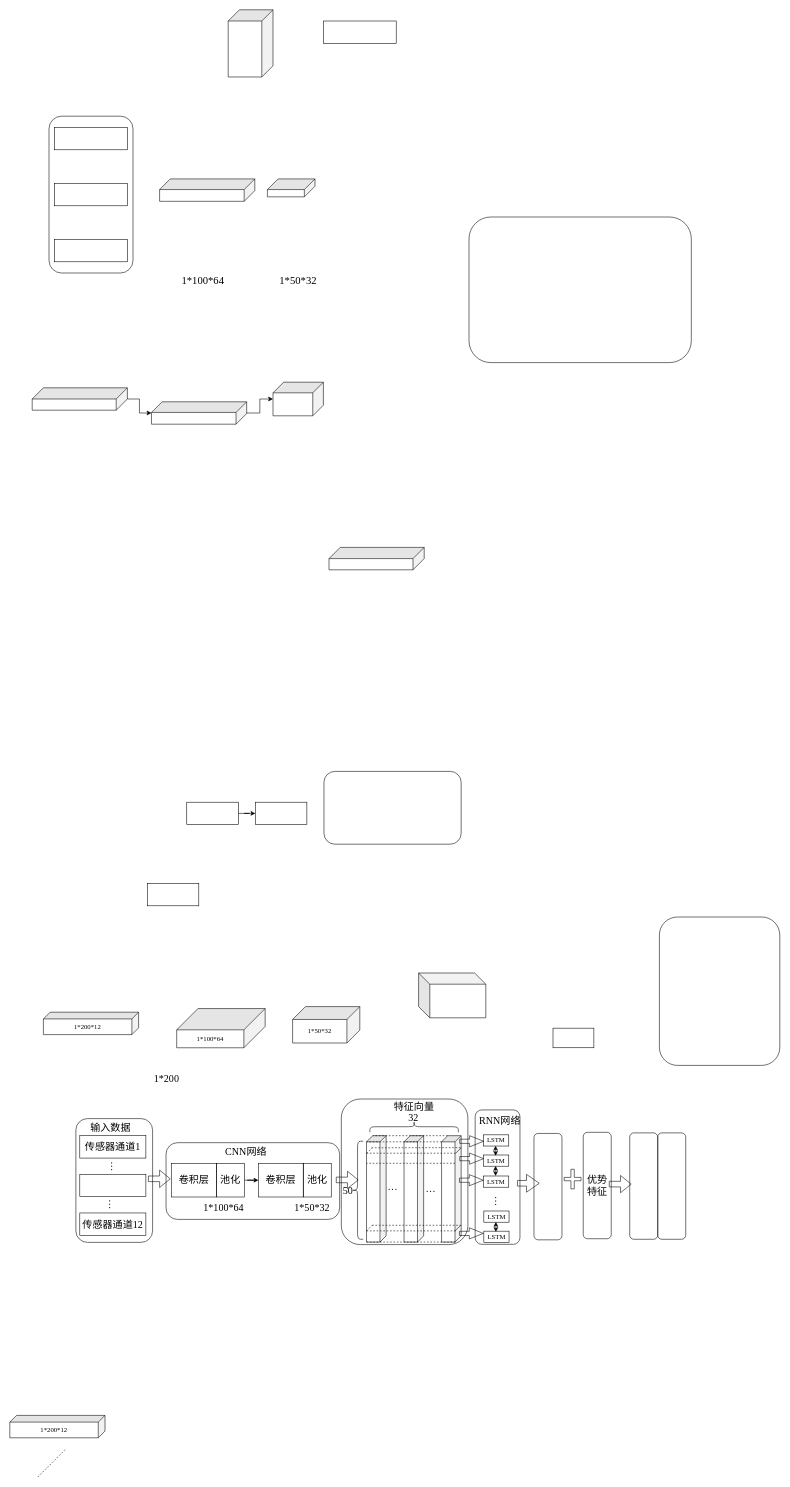
Some shapes in this 790 by 1487 pixel diagram are drawn without their labels. Each missing label, with the box of its shape:
soft max 层: (657, 1132, 686, 1239)
传感器通道 i: (79, 1174, 146, 1197)
全连接层: (629, 1132, 658, 1239)
均值池化特征: (533, 1133, 562, 1240)
特征图 1: (366, 1135, 386, 1242)
特征图 32: (441, 1135, 461, 1242)
特征图 i: (403, 1135, 424, 1242)
